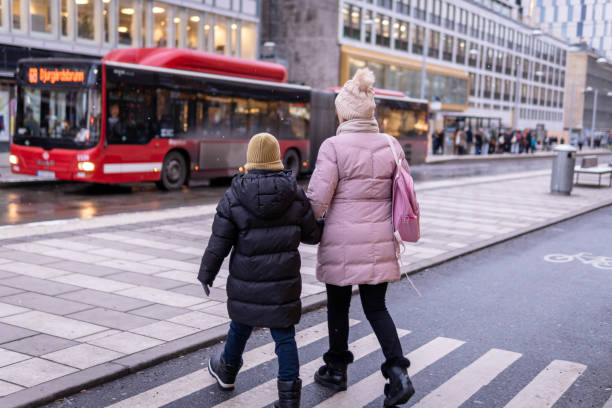otobus: (2, 15, 459, 188)
yaya: (309, 64, 441, 406), (200, 131, 313, 405)
